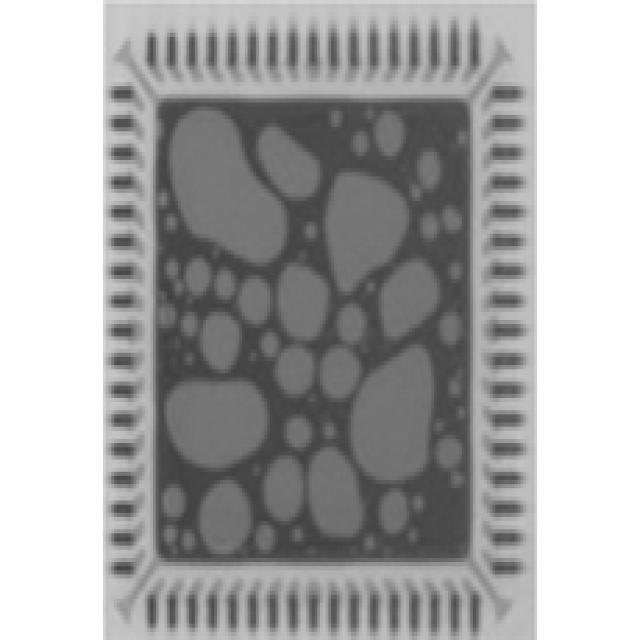component: (155, 96, 472, 559)
void: (170, 115, 287, 265), (351, 345, 437, 484), (326, 172, 412, 293), (164, 382, 270, 472), (309, 447, 365, 542), (381, 258, 442, 341), (259, 127, 323, 199), (278, 263, 331, 343), (200, 480, 253, 558), (264, 455, 302, 523), (200, 312, 242, 373), (320, 349, 362, 402), (276, 349, 312, 393), (376, 111, 406, 158), (239, 277, 270, 321), (337, 304, 367, 349), (381, 492, 409, 537), (417, 148, 442, 193), (437, 435, 465, 472), (186, 258, 211, 297), (161, 484, 186, 521), (440, 312, 465, 349), (287, 418, 314, 451), (256, 525, 278, 558), (214, 271, 237, 302), (262, 332, 281, 361), (181, 312, 200, 341), (159, 304, 178, 332), (442, 209, 462, 234), (353, 131, 370, 158), (423, 213, 440, 240), (164, 258, 181, 283), (164, 525, 178, 550), (303, 222, 320, 242), (184, 529, 198, 552), (451, 263, 465, 283), (447, 374, 460, 393), (292, 529, 306, 546), (410, 181, 421, 202), (457, 128, 469, 147), (431, 418, 445, 434), (412, 494, 423, 514), (451, 469, 462, 489), (333, 111, 345, 129), (363, 532, 375, 550), (409, 527, 421, 544), (173, 280, 184, 294), (323, 423, 334, 437), (212, 237, 220, 256), (245, 347, 255, 362), (166, 212, 175, 228), (157, 118, 163, 142), (347, 544, 358, 556), (307, 544, 317, 557), (296, 247, 307, 258), (158, 193, 168, 204), (364, 105, 373, 117), (366, 279, 375, 290), (253, 465, 260, 479), (457, 407, 465, 419), (173, 336, 180, 348), (171, 545, 178, 557), (185, 356, 192, 366)
